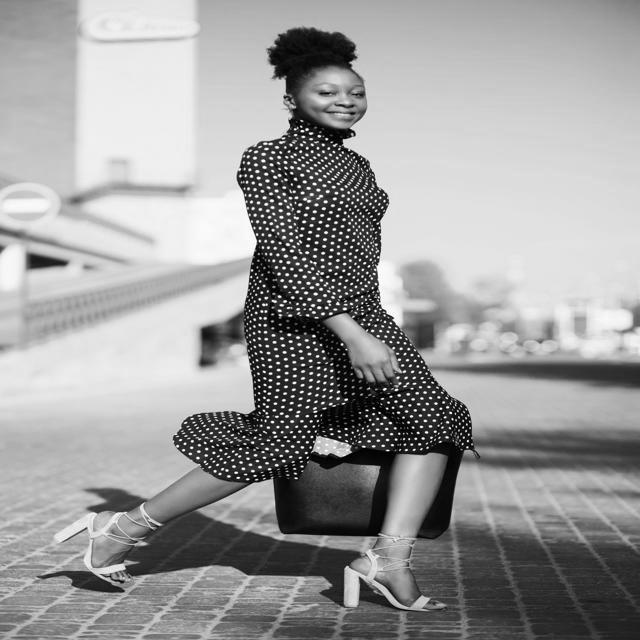Happiness: (293, 63, 372, 137)
